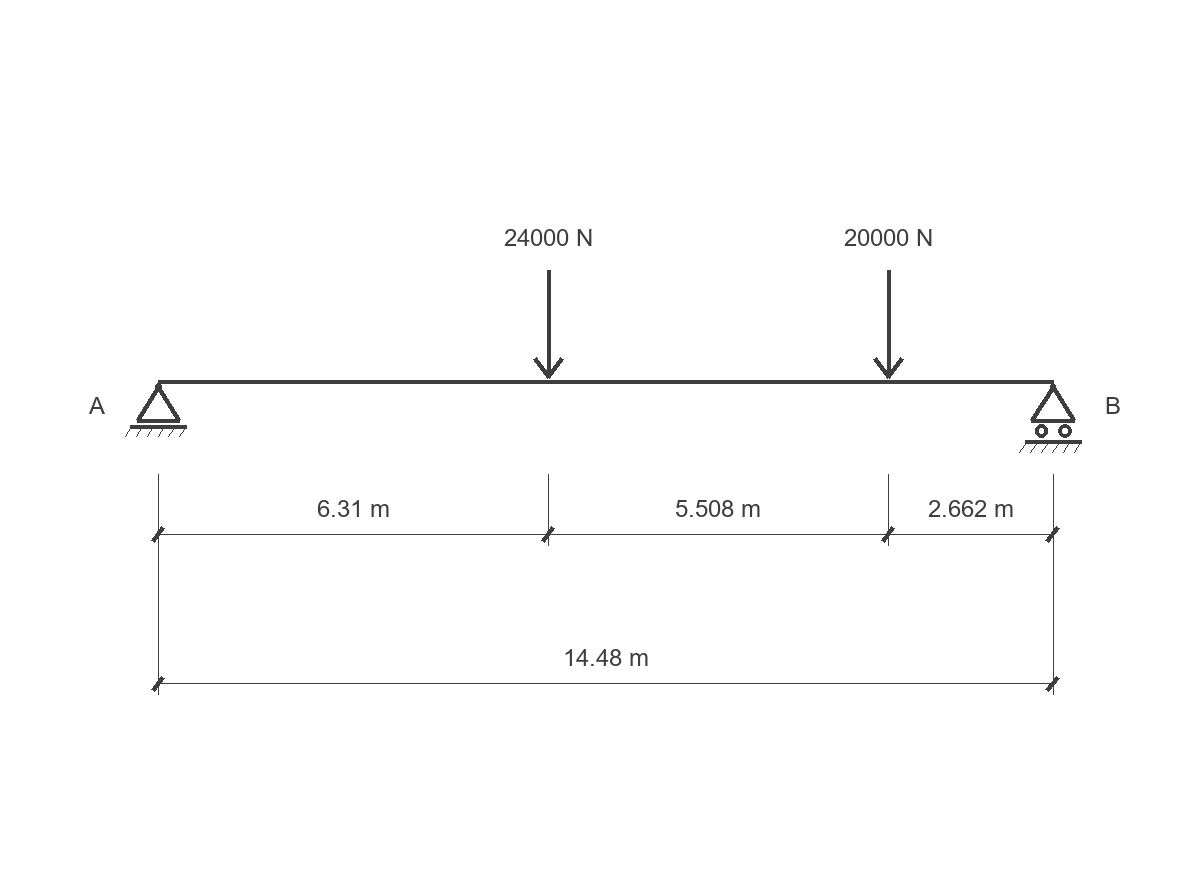pin_support: (125, 383, 187, 437)
point_load: (533, 270, 564, 379), (873, 270, 904, 379)
roller_support: (1019, 383, 1082, 453)
